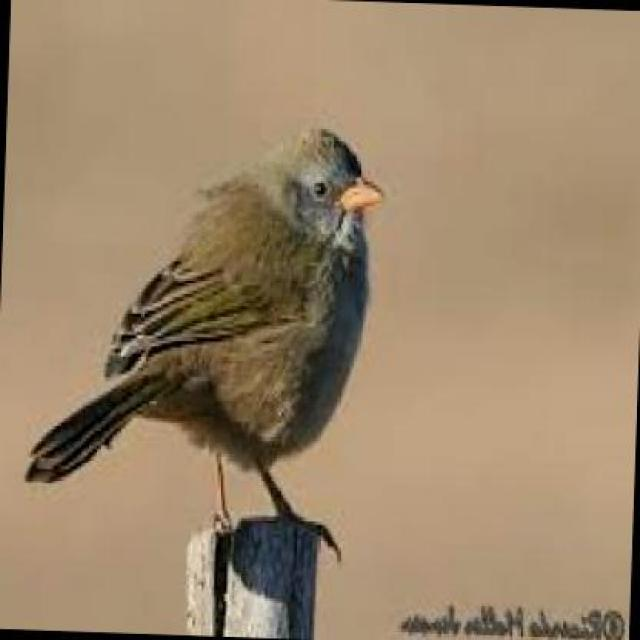Bird: (17, 120, 394, 557)
